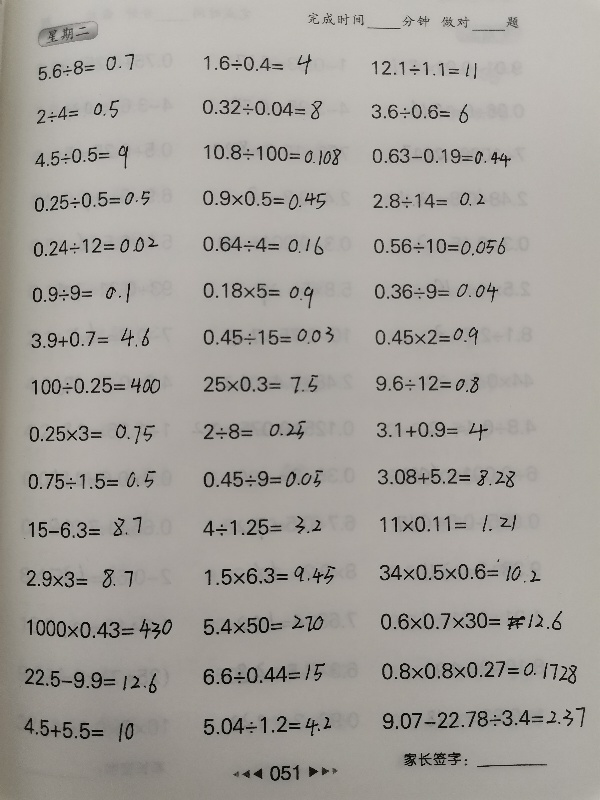equation: (368, 656, 588, 688), (380, 706, 593, 737), (376, 607, 570, 637), (376, 554, 543, 585), (195, 45, 328, 80), (24, 616, 177, 643), (377, 513, 527, 540), (17, 562, 144, 593), (21, 666, 160, 694), (199, 711, 334, 739), (373, 464, 518, 490), (201, 561, 338, 588), (20, 717, 143, 747), (368, 144, 514, 169), (199, 141, 344, 166), (26, 421, 159, 448), (371, 279, 502, 306), (197, 418, 318, 447), (369, 234, 509, 259), (200, 232, 328, 259), (198, 96, 325, 123), (27, 373, 164, 398), (198, 187, 329, 213), (19, 515, 145, 542), (199, 279, 316, 308), (24, 467, 159, 492), (27, 324, 152, 351), (199, 324, 337, 348), (200, 466, 327, 492), (29, 233, 161, 258), (199, 513, 324, 539), (199, 661, 328, 686), (199, 612, 327, 637), (200, 371, 321, 397), (31, 95, 126, 128), (31, 140, 131, 171), (373, 417, 491, 443), (30, 188, 154, 212), (367, 101, 472, 128), (29, 279, 133, 306), (372, 324, 482, 349), (369, 189, 488, 212), (367, 57, 480, 81), (372, 371, 482, 395), (33, 55, 139, 79)
